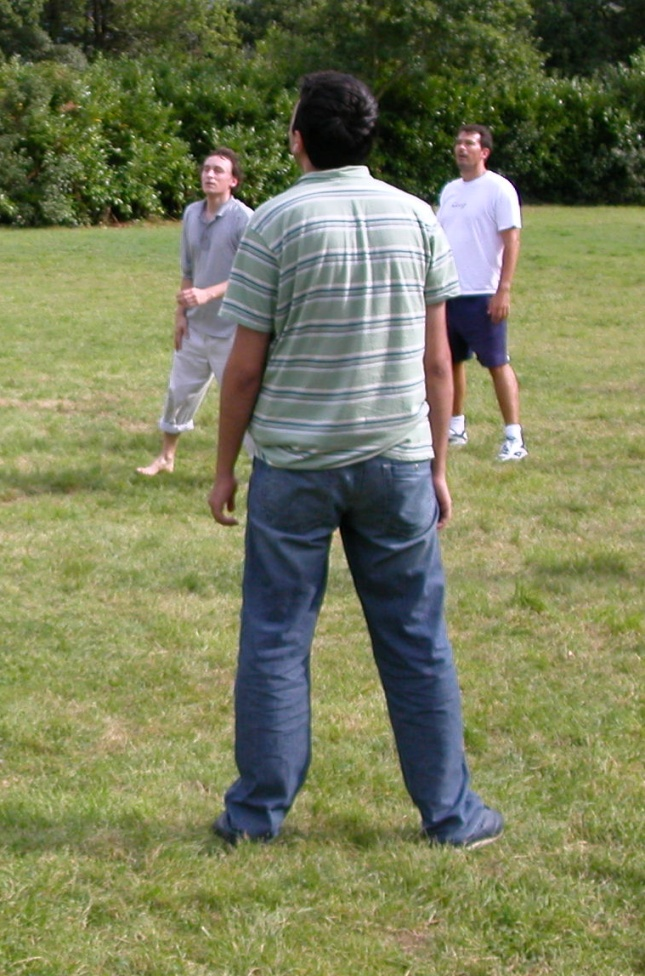person: (220, 73, 492, 845)
